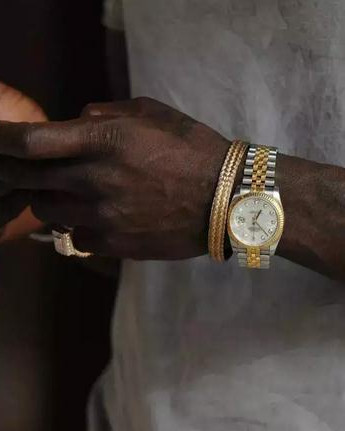clock: (230, 196, 281, 248)
